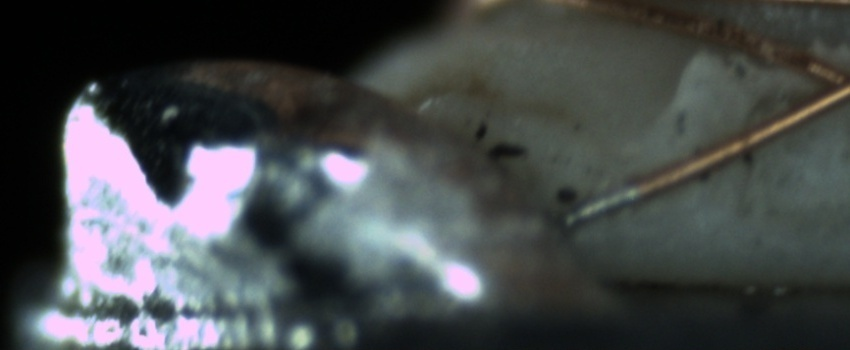CL: (770, 41, 850, 129)
TS: (564, 183, 637, 231)
